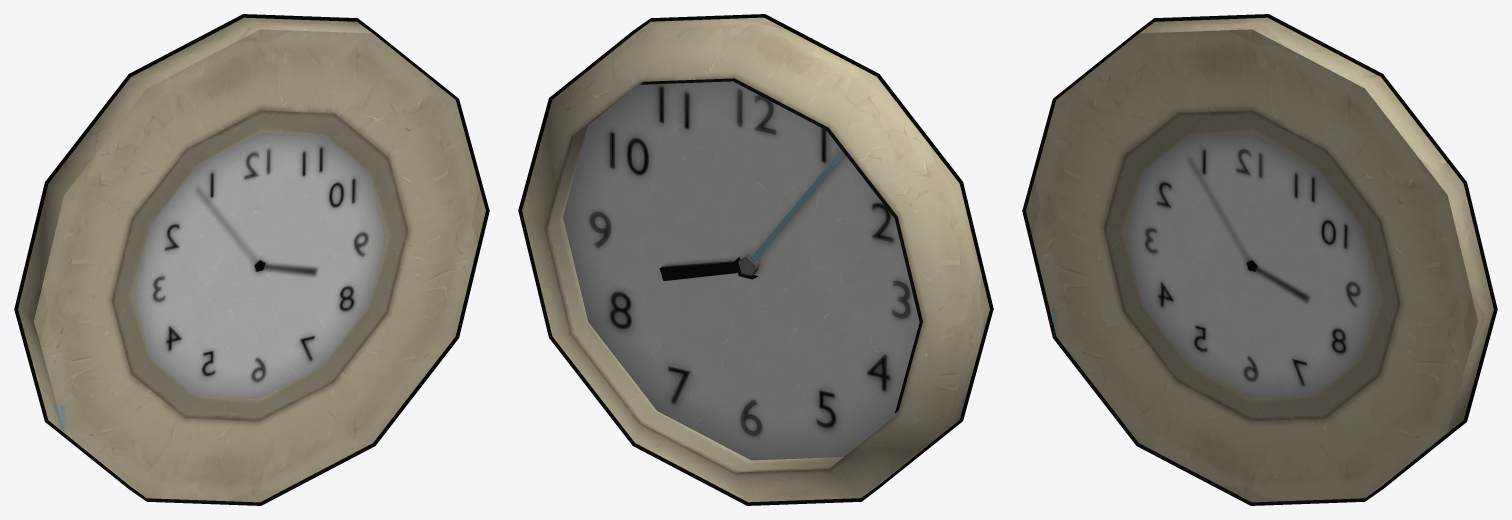
The model's file is Clock.fbx.
The picture shows the model from 3 angles, left to right: view 1: azimuth 30°, elevation 25°; view 2: azimuth 150°, elevation 25°; view 3: azimuth 330°, elevation 25°; orthographic projection.
Visible parts, largest first — view 1: Clock; view 2: Clock; view 3: Clock.
Boxes of the visible parts, <box> form: Clock: <box>14,14,489,505</box>; Clock: <box>518,14,993,505</box>; Clock: <box>1022,14,1497,505</box>.
Bounding box in the file's own units: 68.85 × 68.85 × 8.37.
